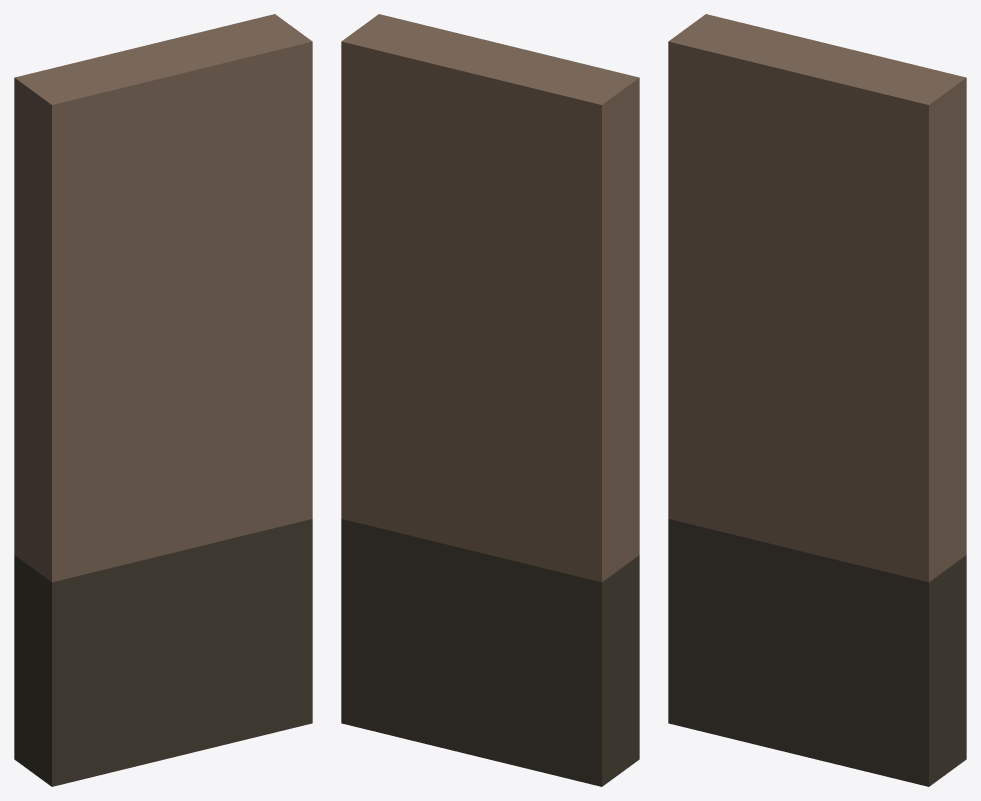
The model's file is Wall.fbx.
The picture shows the model from 3 angles, left to right: view 1: azimuth 30°, elevation 25°; view 2: azimuth 150°, elevation 25°; view 3: azimuth 330°, elevation 25°; orthographic projection.
Parts seen in each view (by area): view 1: Wall; view 2: Wall; view 3: Wall.
Boxes of the visible parts, <box> form: Wall: <box>14,14,312,786</box>; Wall: <box>341,14,639,786</box>; Wall: <box>668,14,966,786</box>.
Size of the model in its own units: 100 by 250 by 25.
